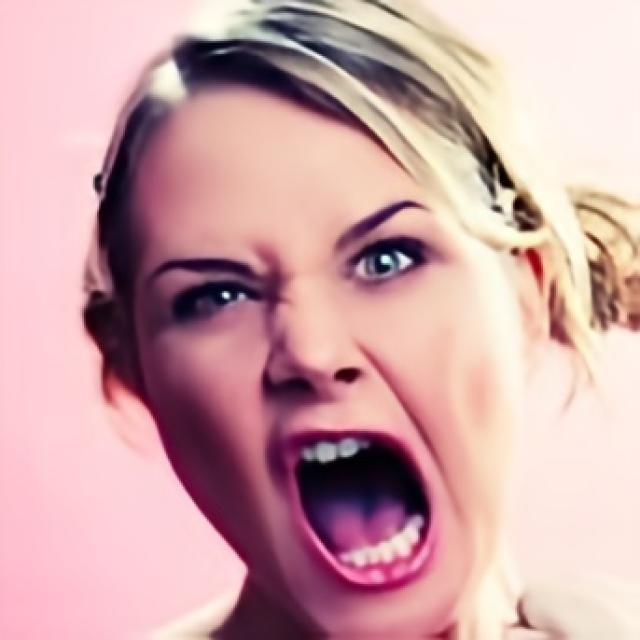anger: (127, 102, 547, 630)
